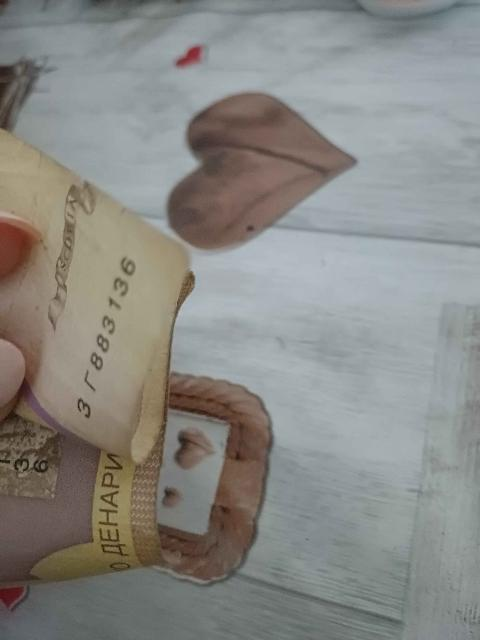100_note: (0, 125, 185, 598)
